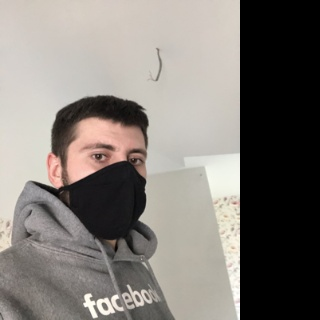with_mask: (67, 130, 147, 240)
